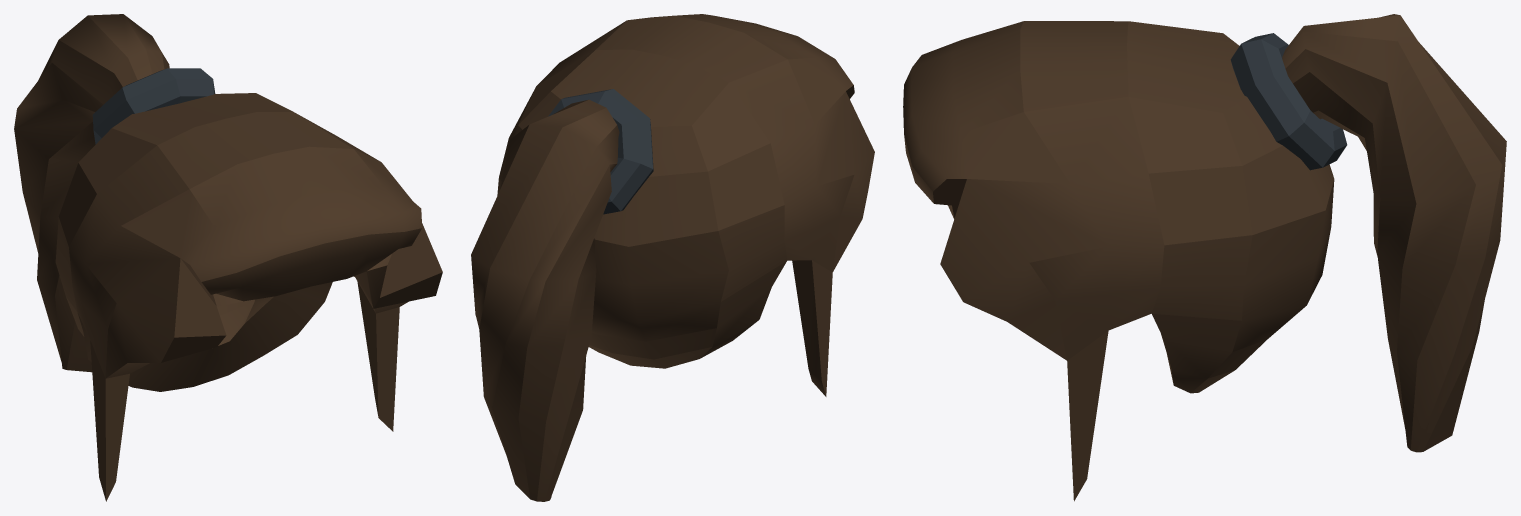
File: Cabello_Coleta.fbx
The picture shows the model from 3 angles, left to right: view 1: azimuth 30°, elevation 25°; view 2: azimuth 150°, elevation 25°; view 3: azimuth 270°, elevation 25°; orthographic projection. The views are drawn at different scales.
Visible parts, largest first — view 1: Cuero_Cabelludo, pCylinder1, pTorus3; view 2: Cuero_Cabelludo, pCylinder1, pTorus3; view 3: Cuero_Cabelludo, pCylinder1, pTorus3.
Boxes of the visible parts, x1,y1,x2,y2 form: Cuero_Cabelludo: [55, 93, 442, 501]; pCylinder1: [14, 14, 169, 372]; pTorus3: [92, 68, 215, 144]; Cuero_Cabelludo: [497, 14, 874, 396]; pCylinder1: [471, 99, 619, 501]; pTorus3: [548, 89, 653, 214]; Cuero_Cabelludo: [903, 21, 1334, 501]; pCylinder1: [1282, 14, 1506, 452]; pTorus3: [1230, 33, 1347, 170].
Bounding box in the file's own units: 2.97 × 3.42 × 4.49.
